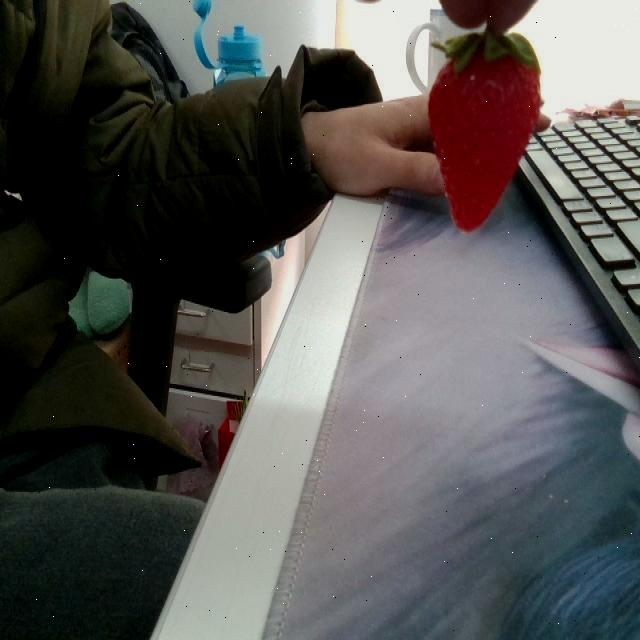ripe: (428, 34, 540, 232)
